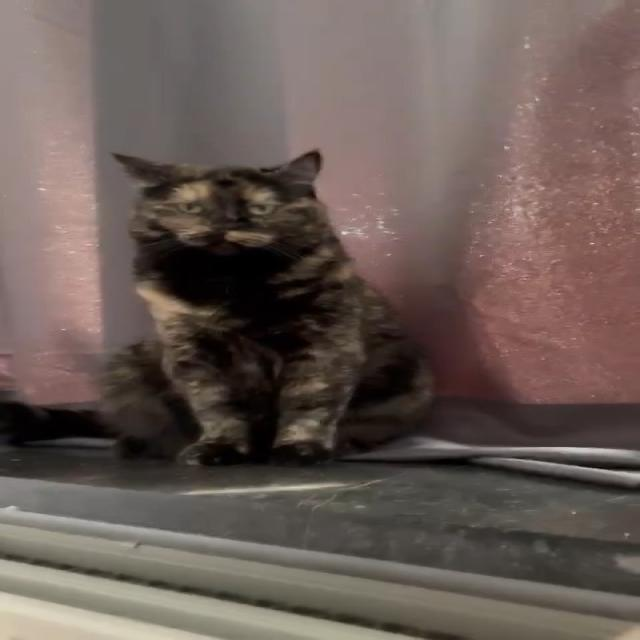authorized: (98, 147, 438, 467)
